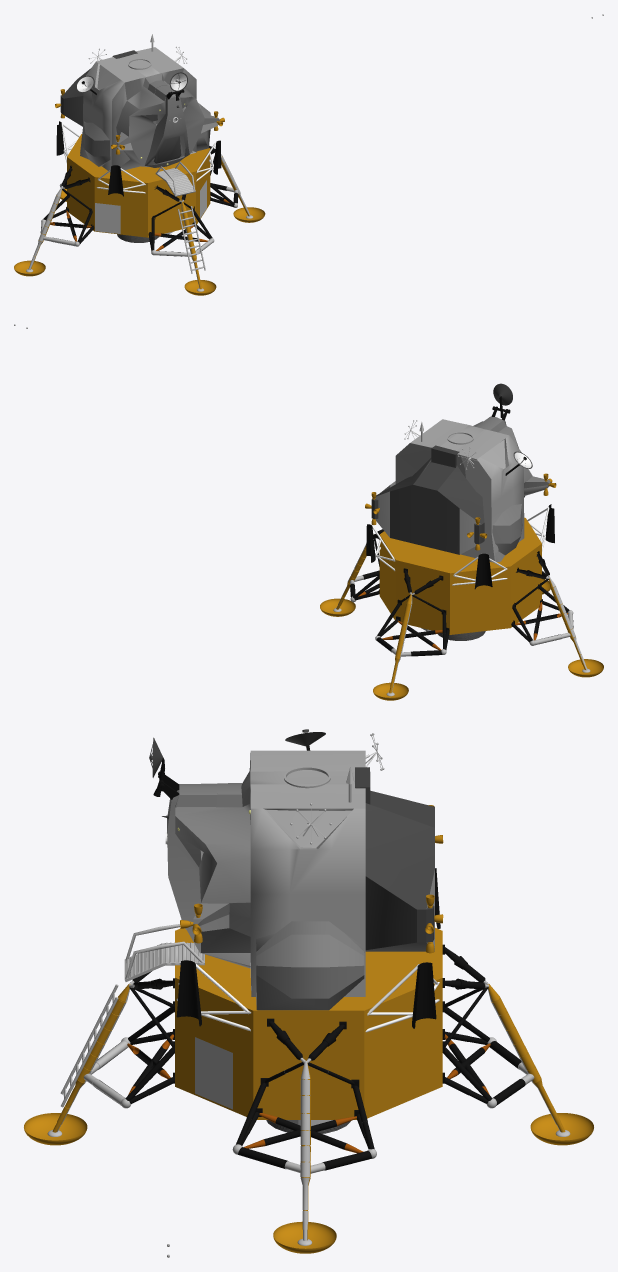
File: landerr.fbx
3 views of the same model, one above another, from view 1: azimuth 30°, elevation 25°; view 2: azimuth 150°, elevation 25°; view 3: azimuth 270°, elevation 25° (orthographic). The views are drawn at different scales.
Visible parts, largest first — view 1: polySurfac, pCylinder1, group31 19, pCylinde10, group31 15, pCube2, pPlane1, group31 16, pCube3, polySurfa1, pCube27, group31 g6; view 2: pCylinder1, polySurfac, pCube2, group31 19, pCylinde10, group31 15, group31 16; view 3: polySurfac, pCylinder1, pCube2, pCylinder9, group31 19, group31 15, group31 16, pPlane2, pCube3, group31 g7, group31 g8, group31 g6 (+10 smaller).
Part boxes in pixels (x1,y1,x2,y2): polySurfac: [80, 47, 219, 172]; pCylinder1: [67, 134, 210, 237]; group31 19: [14, 188, 265, 295]; pCylinde10: [80, 121, 110, 166]; group31 15: [28, 154, 250, 288]; pCube2: [61, 50, 157, 126]; pPlane1: [95, 203, 120, 233]; group31 16: [31, 155, 248, 289]; pCube3: [155, 168, 195, 196]; polySurfa1: [177, 206, 205, 273]; pCube27: [153, 136, 181, 163]; group31 g6: [43, 190, 238, 256]; pCylinder1: [379, 517, 541, 634]; polySurfac: [395, 416, 550, 562]; pCube2: [375, 445, 484, 554]; group31 19: [320, 579, 603, 700]; pCylinde10: [492, 504, 522, 562]; group31 15: [336, 534, 587, 692]; group31 16: [337, 546, 585, 693]; polySurfac: [167, 750, 365, 996]; pCylinder1: [175, 928, 442, 1119]; pCube2: [355, 767, 434, 951]; pCylinder9: [256, 921, 364, 1010]; group31 19: [24, 1113, 593, 1253]; group31 15: [52, 984, 565, 1240]; group31 16: [53, 987, 564, 1239]; pPlane2: [195, 1037, 232, 1109]; pCube3: [124, 942, 204, 981]; group31 g7: [83, 1073, 534, 1173]; group31 g8: [128, 1034, 489, 1153]; group31 g6: [90, 1041, 527, 1172].
Bounding box in the file's own units: 14.41 × 5.01 × 6.43.
